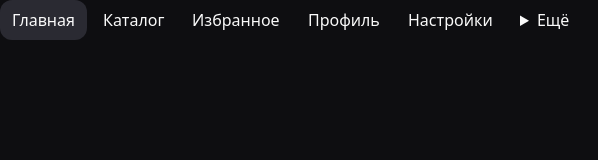
Test: OverflowNav › shows "Пусто" message when no items are hidden
Open the "Ещё" dropdown
Click the heading "Ещё" at (554, 20), box [537,9,570,31]
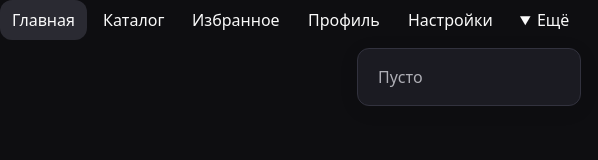
Expected: the text "Пусто" is shown, [379,66,424,88]
